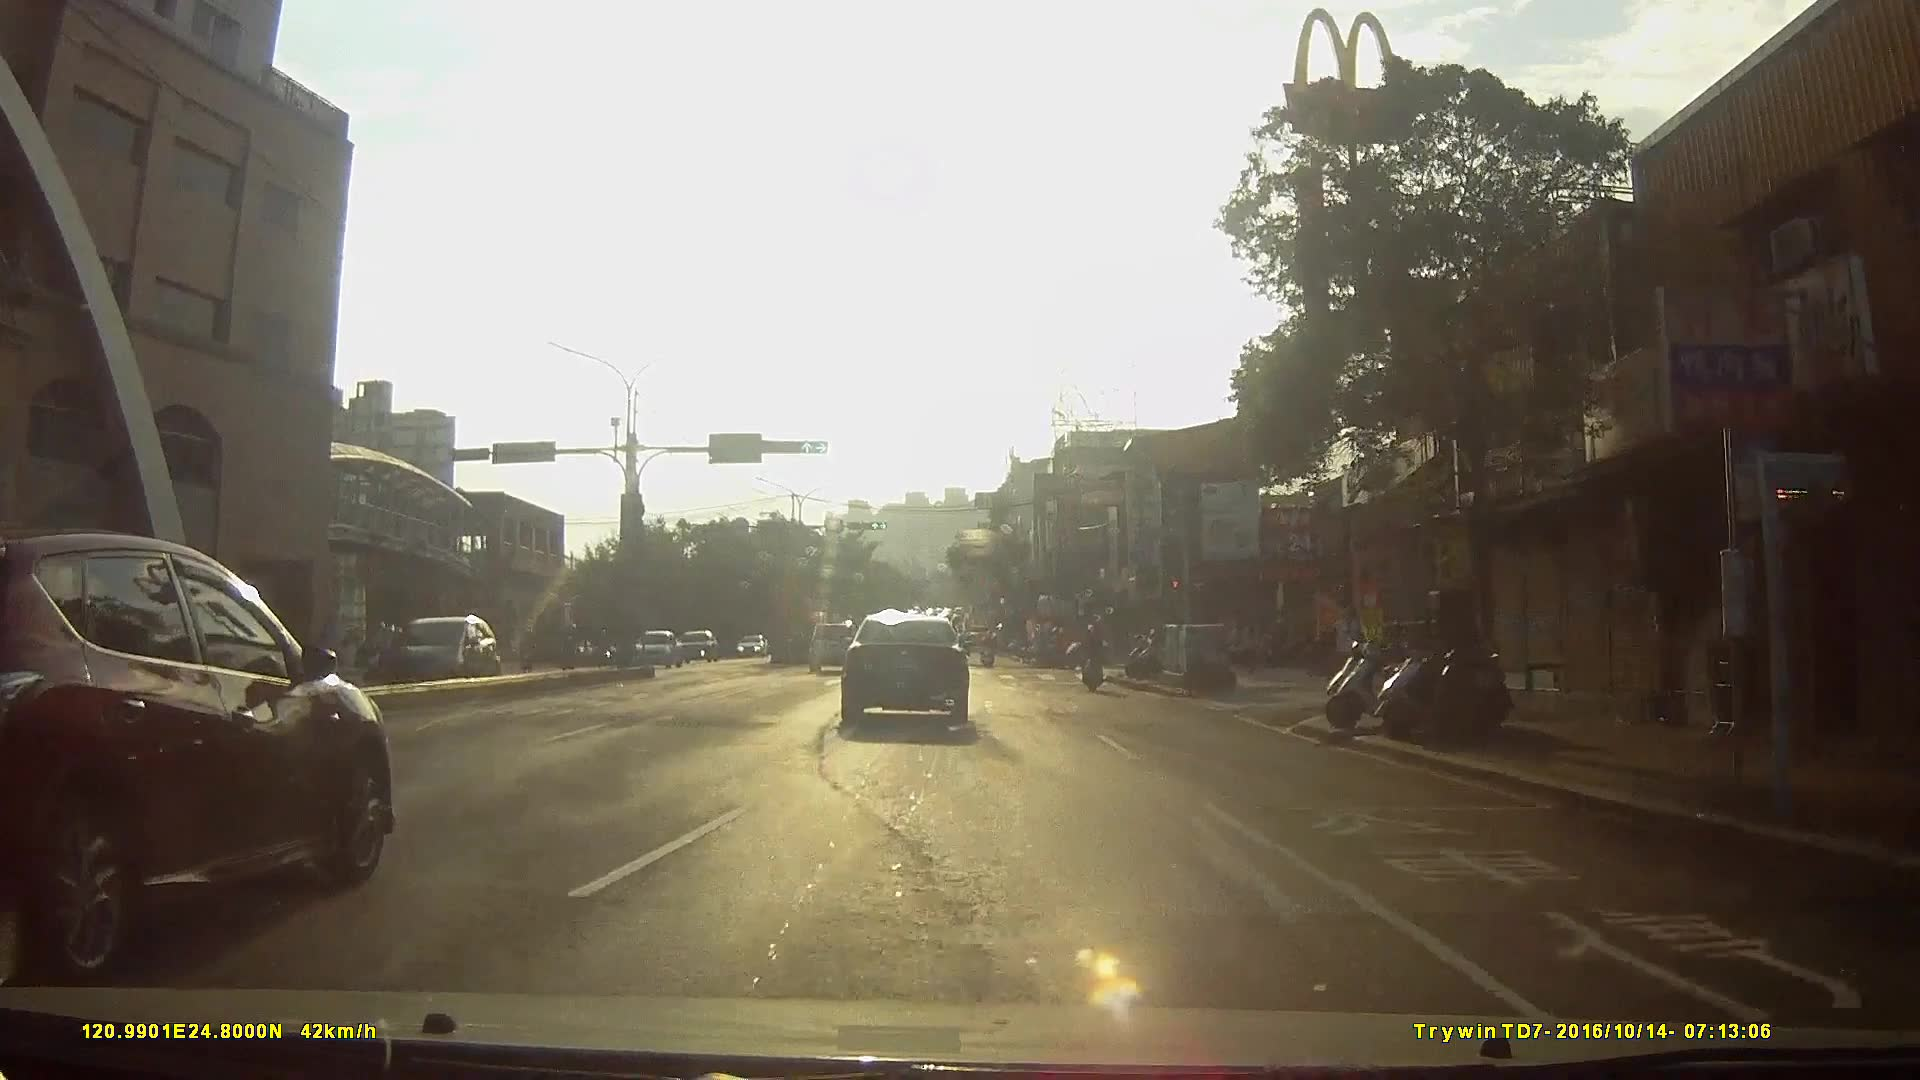pedestrian: (1332, 590, 1359, 683)
rider: (1079, 621, 1105, 691), (1038, 625, 1074, 667), (977, 628, 998, 667)
vehicle: (1, 518, 399, 992), (838, 611, 982, 735), (377, 607, 515, 690), (804, 616, 863, 671), (625, 625, 684, 672), (679, 628, 721, 667), (734, 629, 770, 656)
